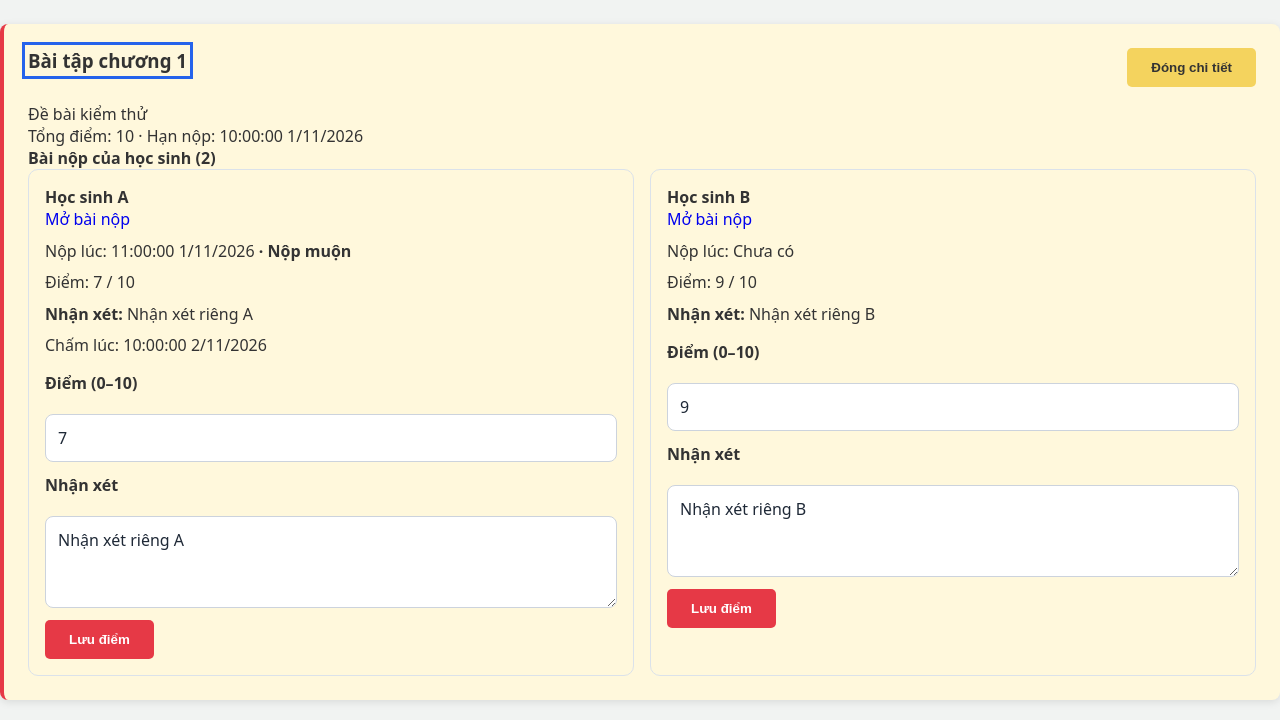
Test: teacher xem/chấm đủ hai bài nộp, điểm 0 hợp lệ và chỉ gửi trường cần thiết
Expected: the label "Nhận xét" below "Chấm lúc:" is shown, x1=45 y1=474 x2=118 y2=496
Replace the text in the number field labelled "Điểm (0–10)" below "Chấm lúc:" with "0": (331, 438) x1=45 y1=414 x2=617 y2=462
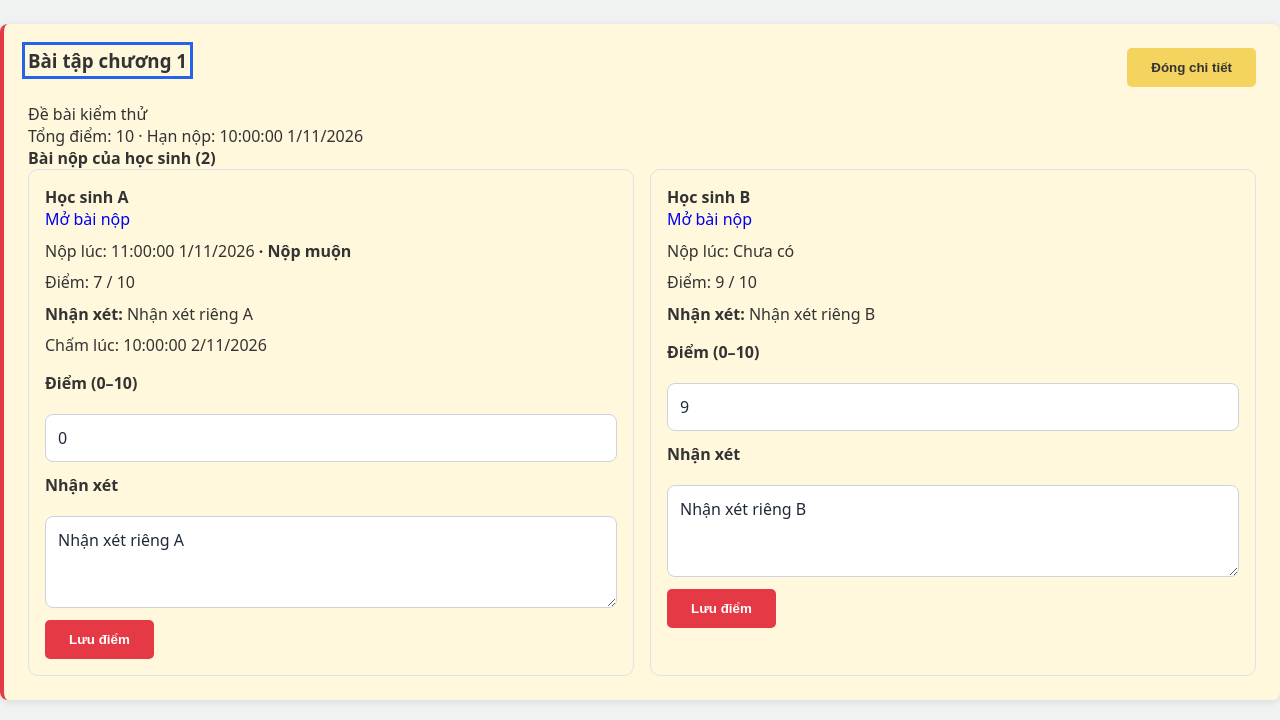
Replace the text in the text box labelled "Nhận xét" below "Chấm lúc:" with "Cần bổ sung": (331, 562) x1=45 y1=516 x2=617 y2=608
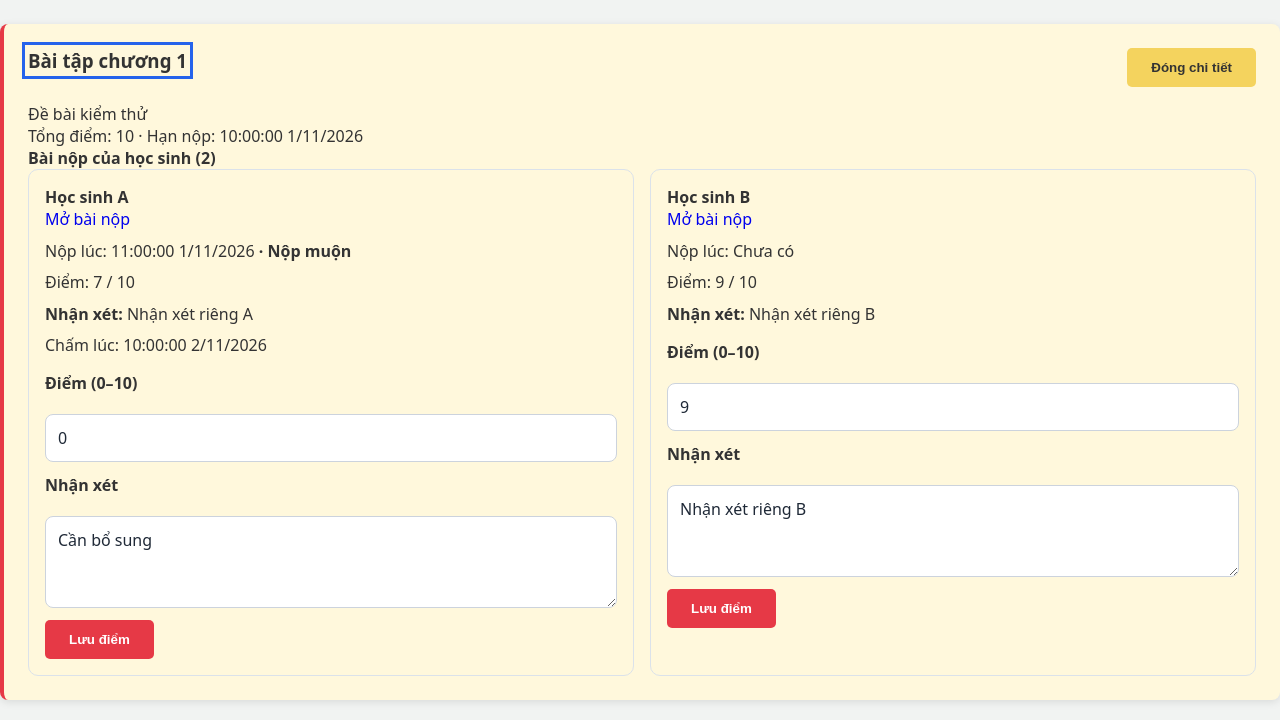
Submit the form named "Chấm bài của Học sinh A", box x1=45 y1=372 x2=617 y2=659
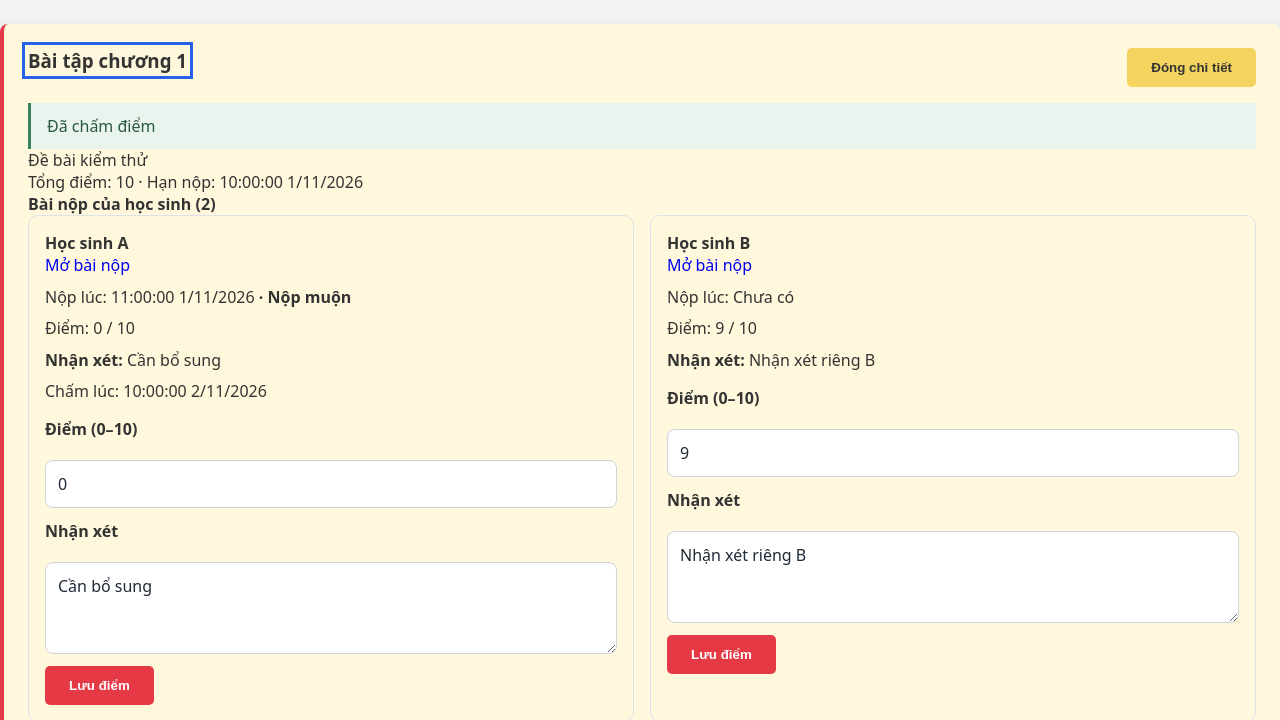
Now the text "0 / 10" is shown, box x1=93 y1=317 x2=135 y2=339
Now the text "Cần bổ sung" is shown, box x1=127 y1=349 x2=221 y2=371
